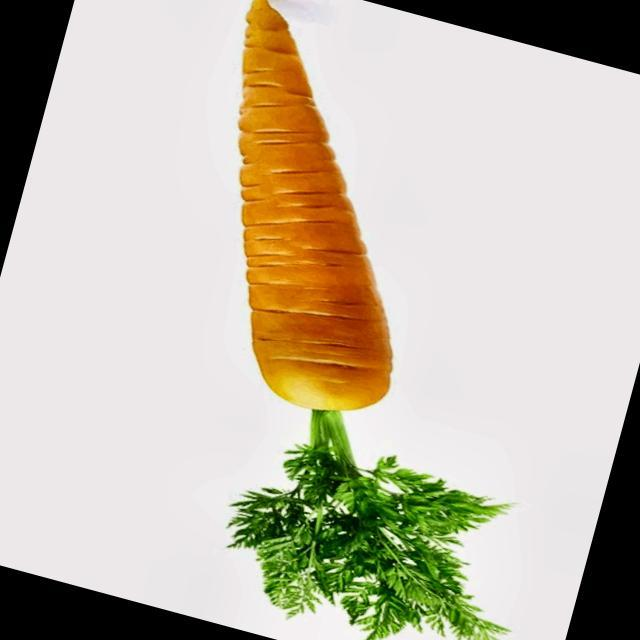carrot: (230, 0, 508, 640)
